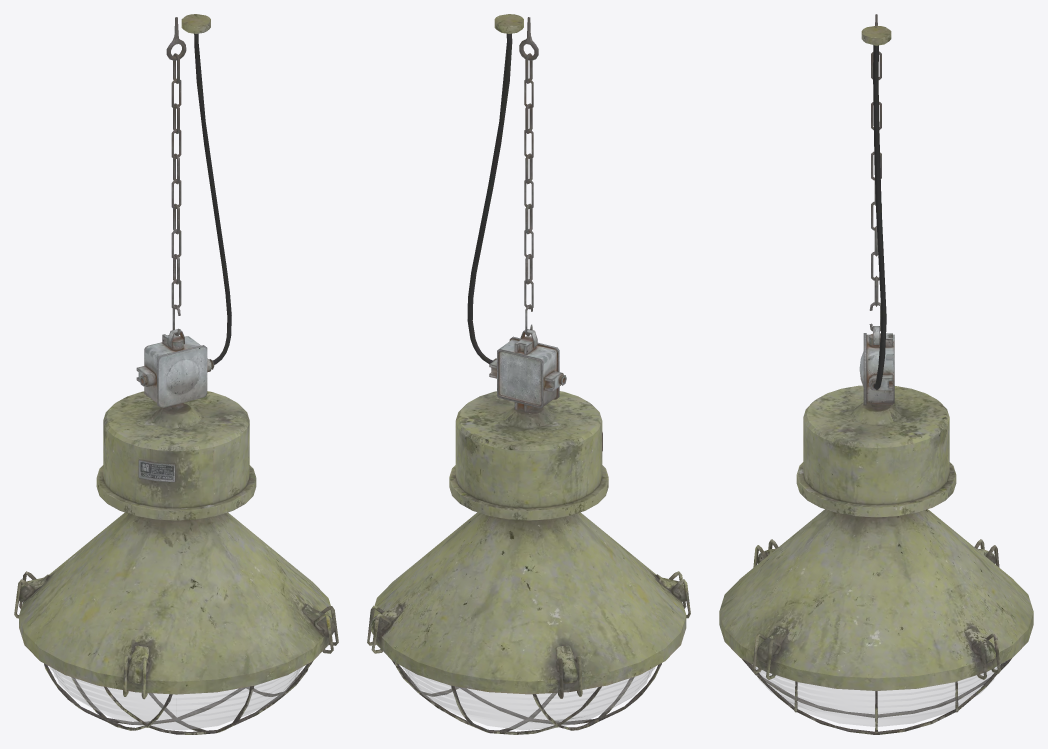
Rendered from hanging_industrial_lamp.glb.
3 renders of one model, left to right at view 1: azimuth 30°, elevation 25°; view 2: azimuth 150°, elevation 25°; view 3: azimuth 270°, elevation 25°, orthographic.
Parts seen in each view (by area): view 1: hanging_industrial_lamp; view 2: hanging_industrial_lamp; view 3: hanging_industrial_lamp.
Boxes of the visible parts, <box> form: hanging_industrial_lamp: <box>14,14,338,734</box>; hanging_industrial_lamp: <box>367,14,690,734</box>; hanging_industrial_lamp: <box>719,14,1033,734</box>.
Bounding box in the file's own units: 0.5496 × 1.36 × 0.5496.
Materials: 2 (1 with a texture image).
